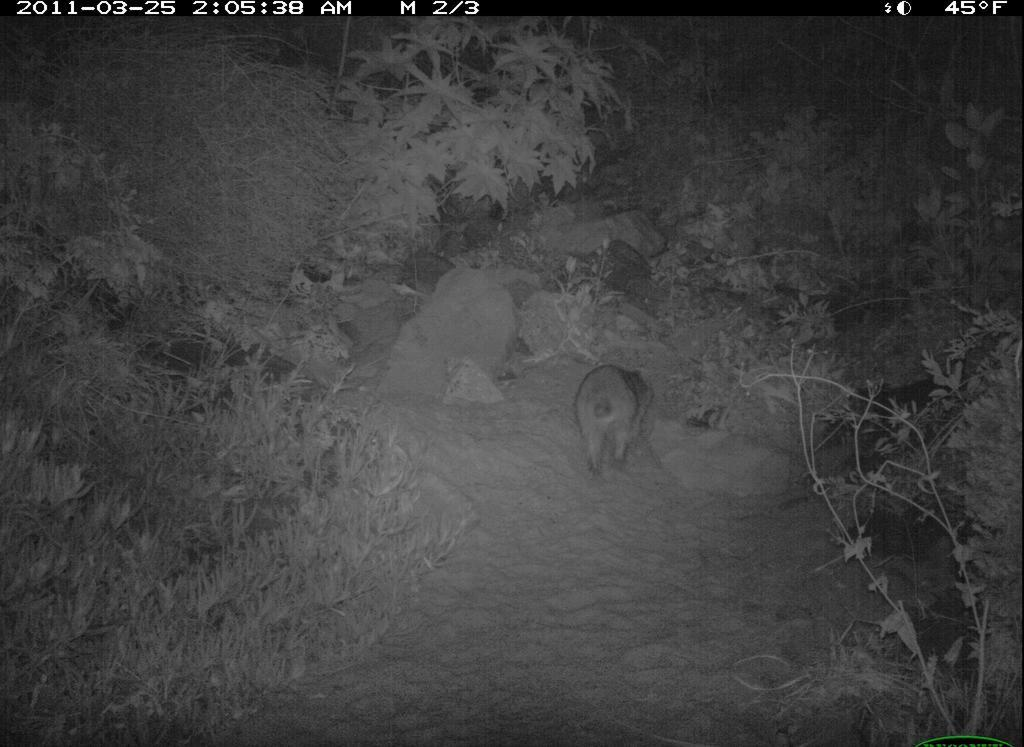raccoon: (570, 358, 658, 486)
